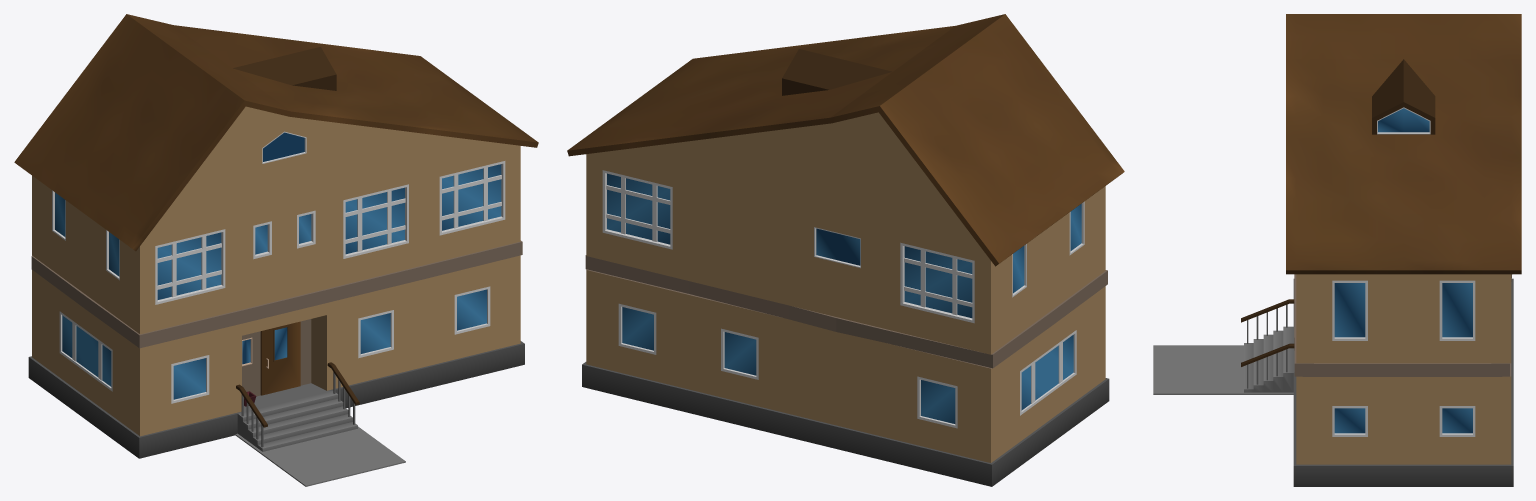
File: cottage_ex_1.fbx
3 renders of one model, left to right at view 1: azimuth 30°, elevation 25°; view 2: azimuth 150°, elevation 25°; view 3: azimuth 270°, elevation 25°, orthographic. The views are drawn at different scales.
Visible parts, largest first — view 1: cottage_ex_1; view 2: cottage_ex_1; view 3: cottage_ex_1.
Part boxes in pixels (x1,y1,x2,y2): cottage_ex_1: (14, 14, 538, 486); cottage_ex_1: (567, 14, 1124, 486); cottage_ex_1: (1153, 14, 1521, 486).
Bounding box in the file's own units: 1475 × 1167 × 1162.
